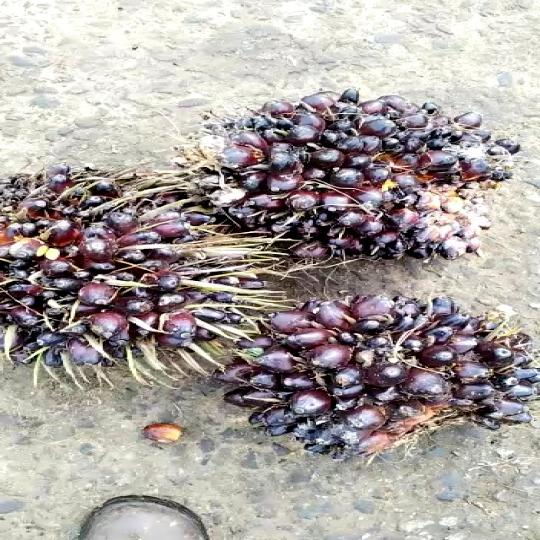kurang masak: (176, 97, 540, 269), (0, 168, 285, 370), (213, 283, 540, 457)
